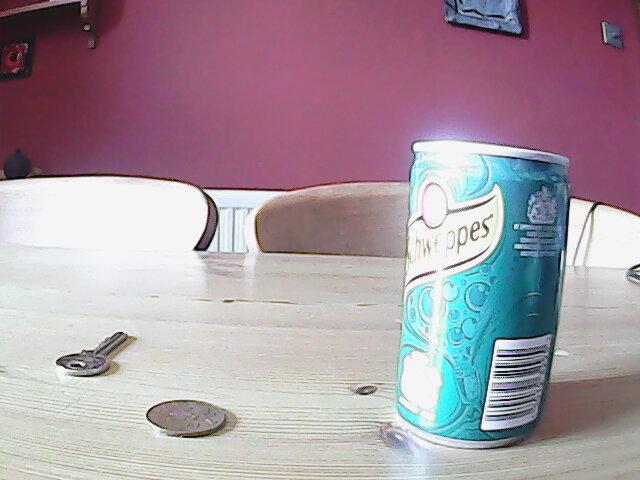Can: (391, 136, 577, 455)
Coin: (141, 396, 235, 440)
Key: (51, 328, 130, 383)
